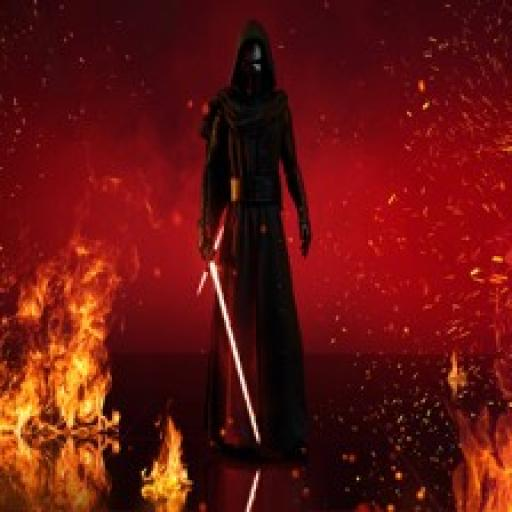human: (186, 17, 321, 464)
sith saber: (193, 209, 268, 448)
